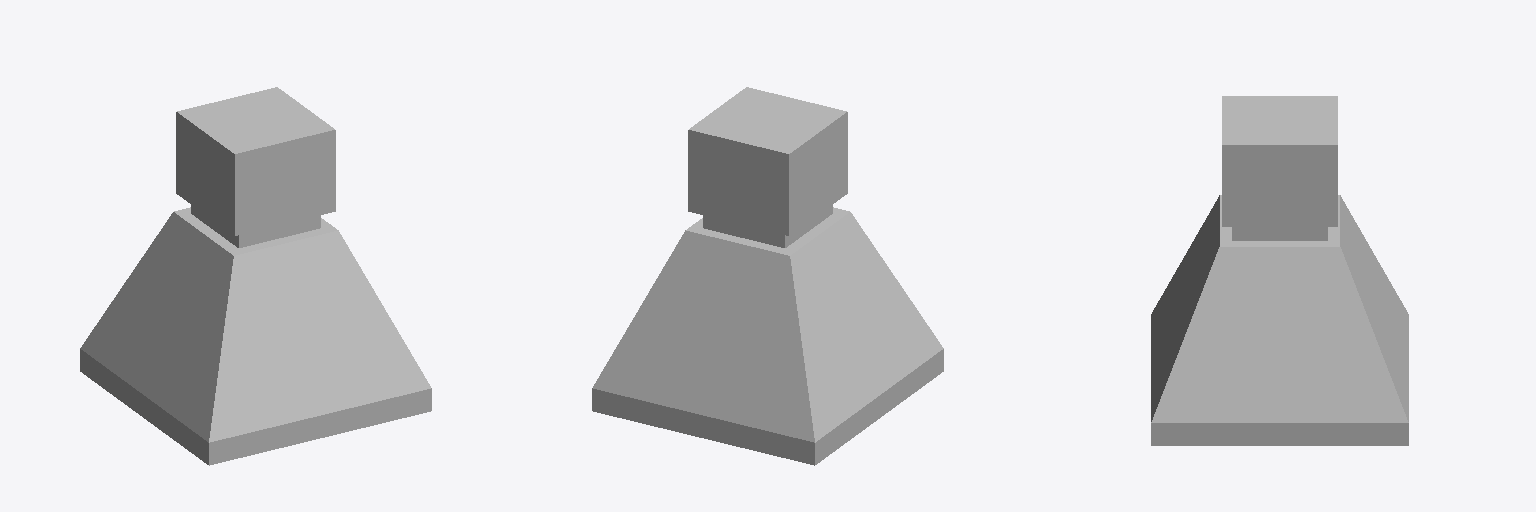
File: pawn.obj
3 views of the same model, side by side, from view 1: azimuth 30°, elevation 25°; view 2: azimuth 150°, elevation 25°; view 3: azimuth 270°, elevation 25° (orthographic).
Parts seen in each view (by area): view 1: Cube; view 2: Cube; view 3: Cube.
Part boxes in pixels (left/top/right/bottom): Cube: left=80, top=87, right=431, bottom=465; Cube: left=592, top=87, right=943, bottom=465; Cube: left=1151, top=96, right=1408, bottom=445.
Bounding box in the file's own units: 1.38 × 1.6 × 1.38.